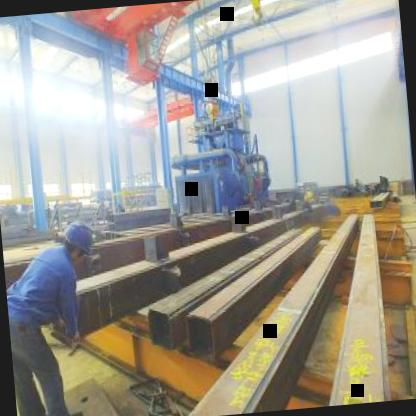helmet: (60, 219, 96, 268)
